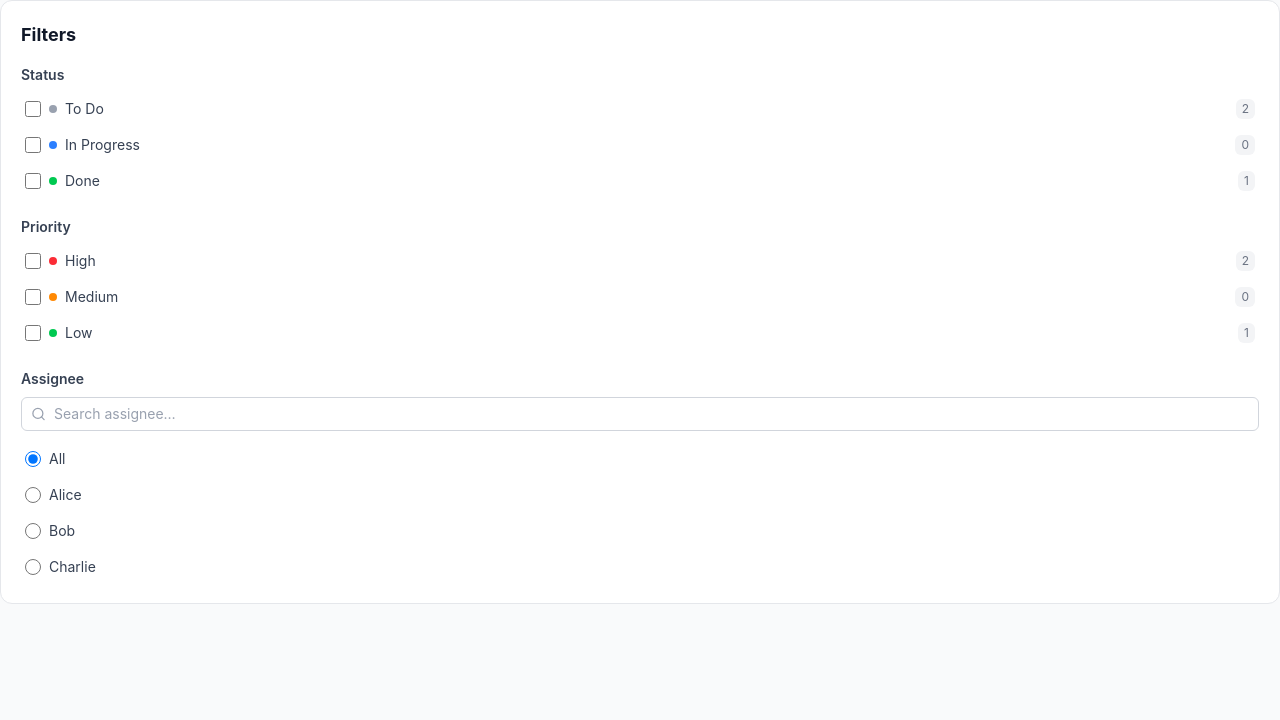
Test case: TaskFilters › selecting an assignee radio deselects 'All'
Click the radio button labelled "Bob" at (33, 531), box [25, 523, 41, 539]
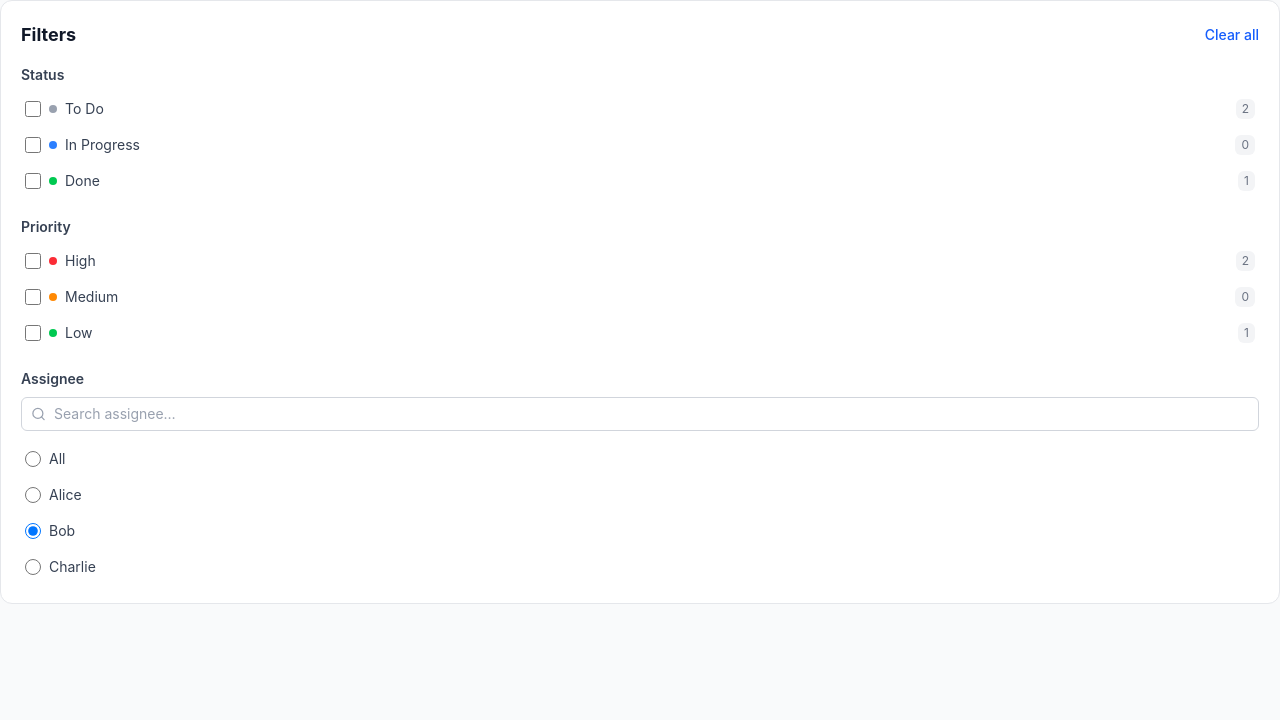
Result: the radio button labelled "Bob" is checked at [25, 523, 41, 539]
Result: the radio button labelled "All" is not checked at [25, 451, 41, 467]
